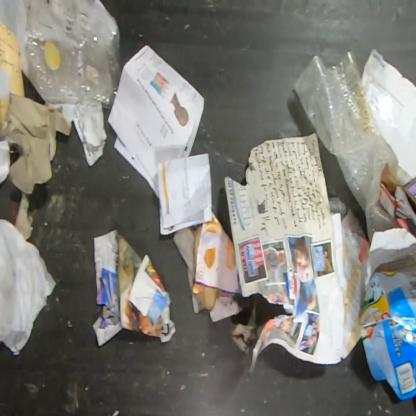cardboard: (357, 271, 415, 402)
rigid_plastic: (26, 0, 121, 109)
soft_plastic: (293, 51, 413, 246)
